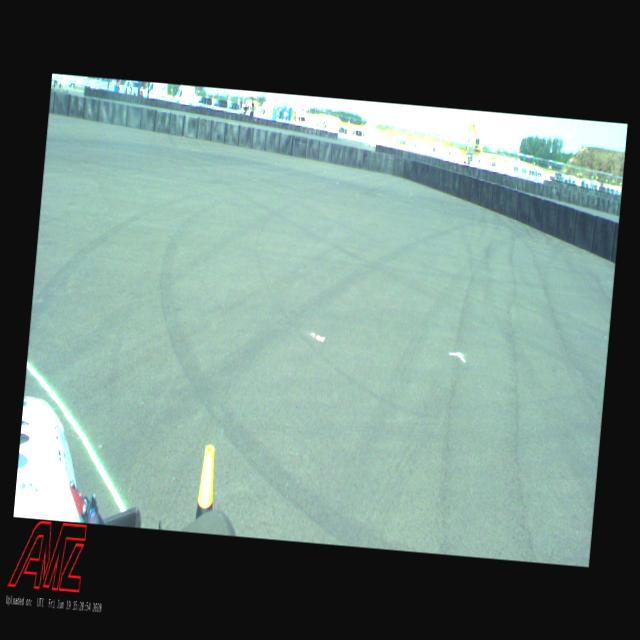yellow_cone: (196, 444, 217, 520)
